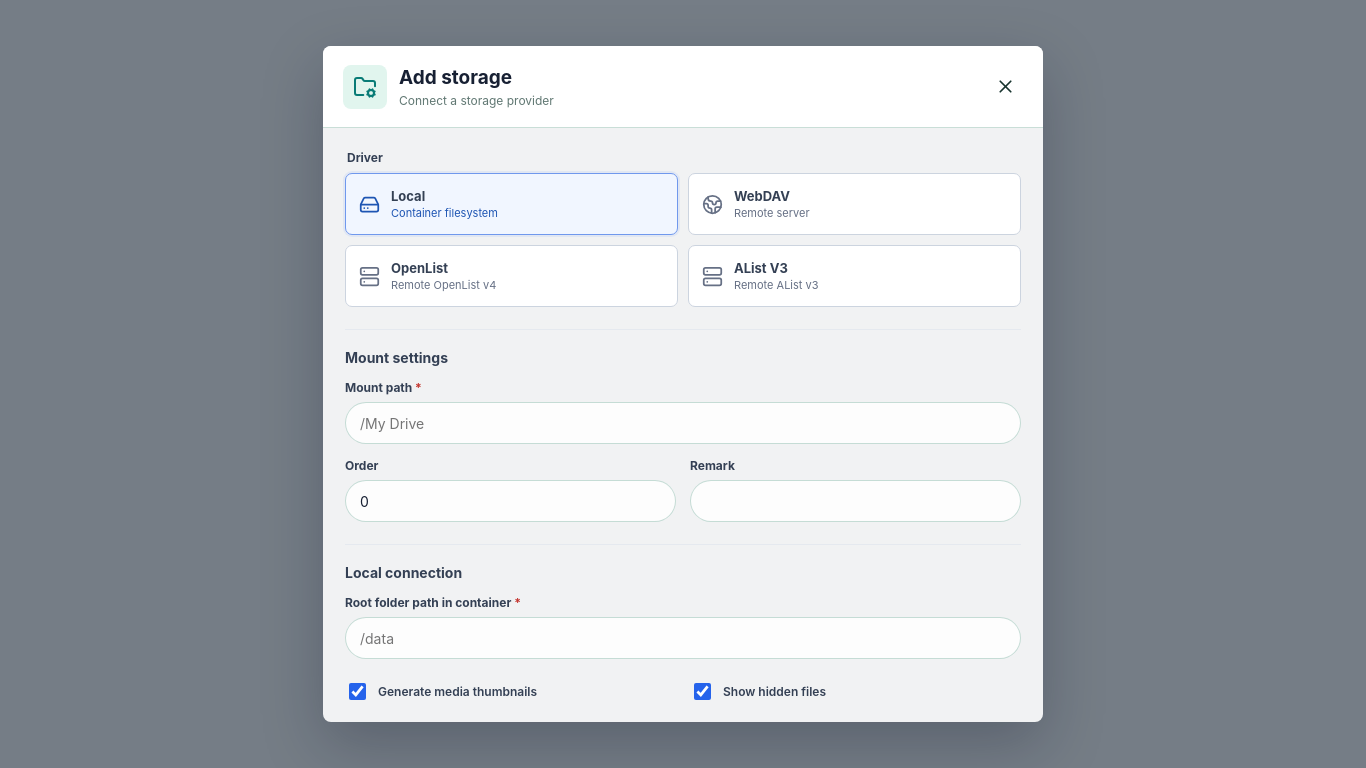
Test: StorageForm › does not submit an unsafe relative Local container root
Type "/Local" into the field labelled "Mount path *" at (683, 423), box [345,402,1021,444]
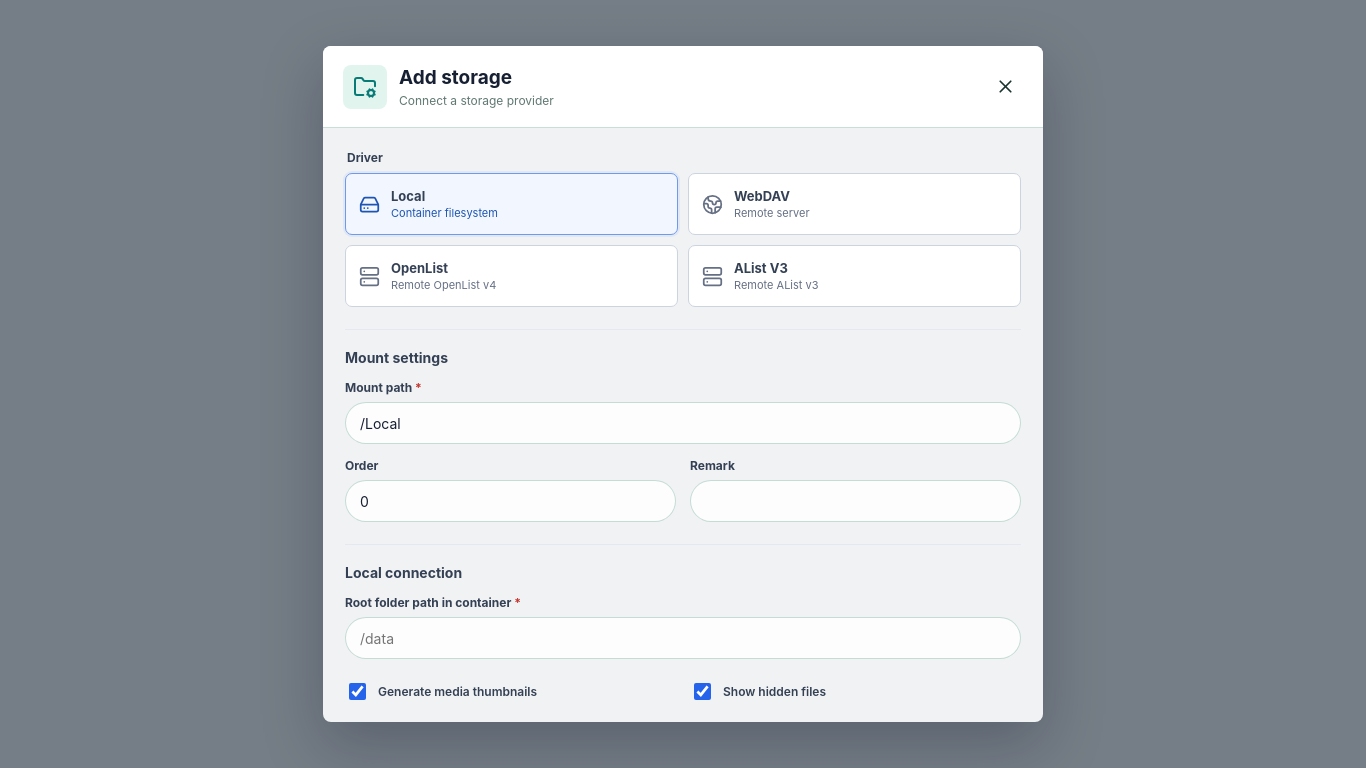
Type "data" into the field labelled "Root folder path in container *" at (683, 638), box [345,617,1021,659]
(page scrolled)
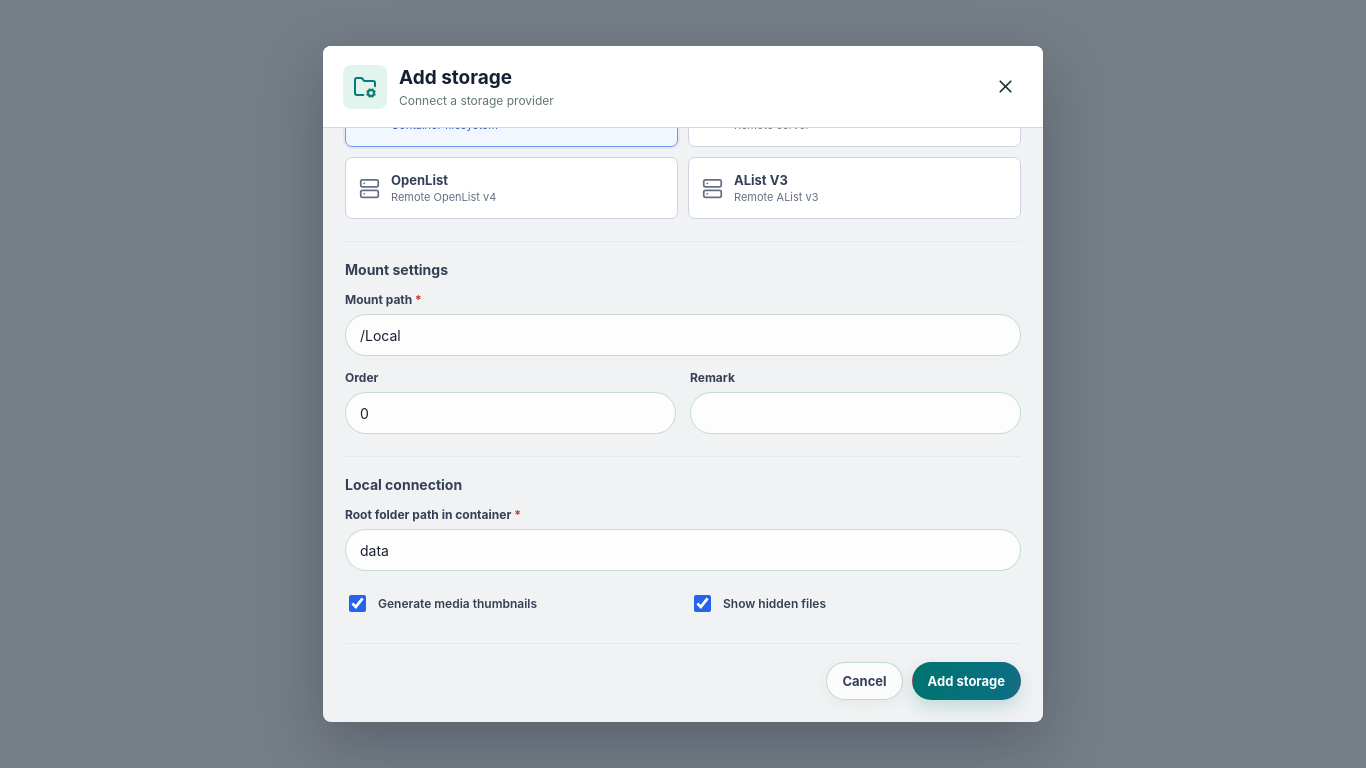
Click the button "Add storage" at (966, 681), box [912,662,1021,700]
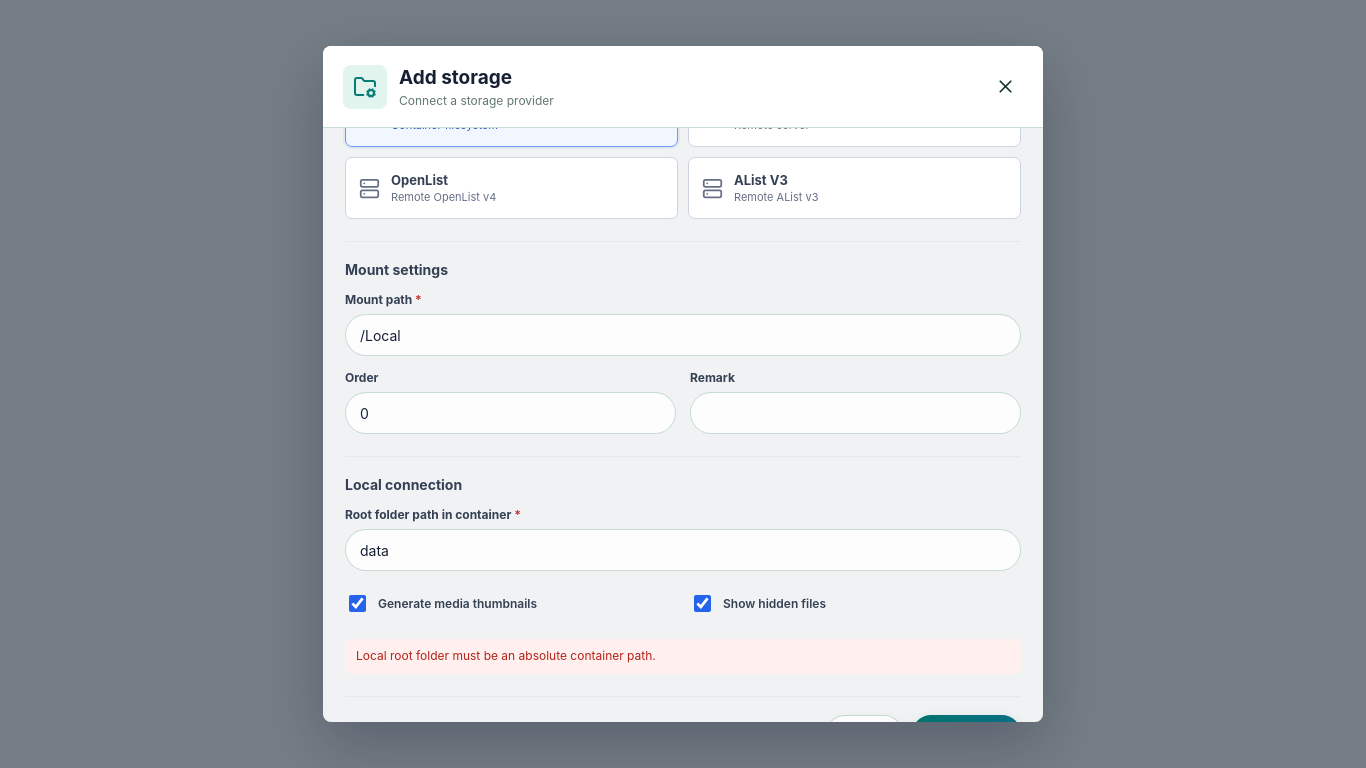
Now the text "Local root folder must be an absolute container path." is shown, box [345,639,1021,674]
